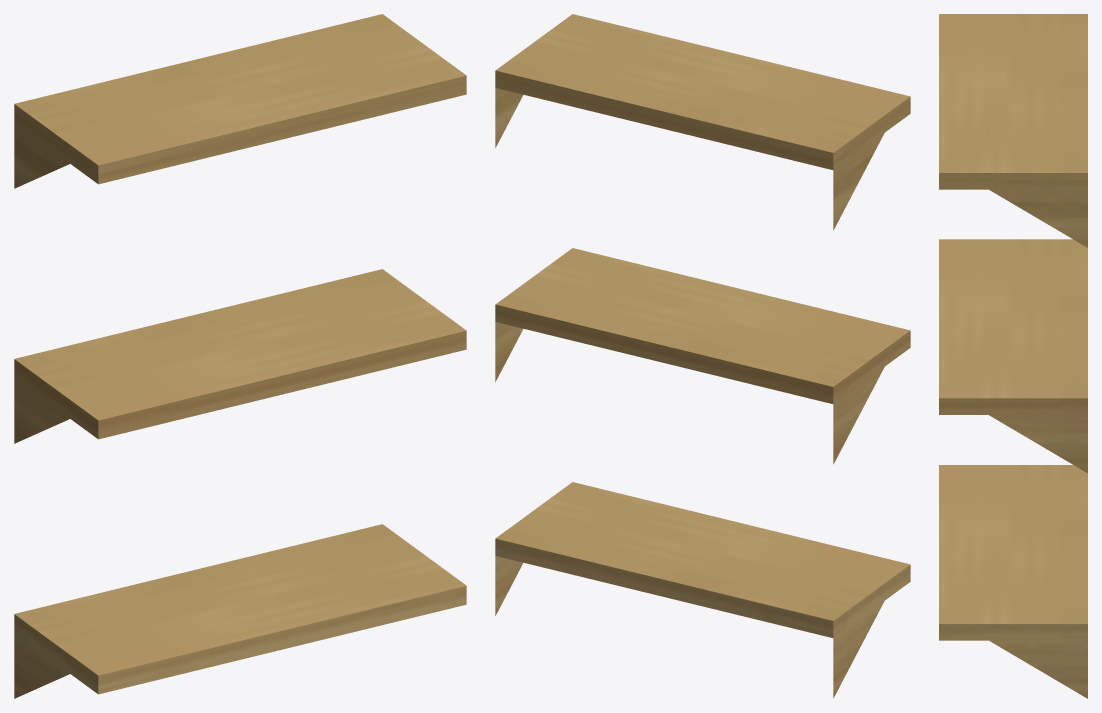
The model's file is book_rack_right.glb.
3 views of the same model, side by side, from view 1: azimuth 30°, elevation 25°; view 2: azimuth 150°, elevation 25°; view 3: azimuth 270°, elevation 25° (orthographic). The views are drawn at different scales.
Visible parts, largest first — view 1: Shelf.001; view 2: Shelf.001; view 3: Shelf.001.
Boxes of the visible parts, x1,y1,x2,y2 form: Shelf.001: (14, 14, 466, 698); Shelf.001: (495, 14, 910, 698); Shelf.001: (939, 14, 1087, 698).
Bounding box in the file's own units: 0.6304 × 0.9731 × 0.2496.
Materials: 1 (1 with a texture image).
